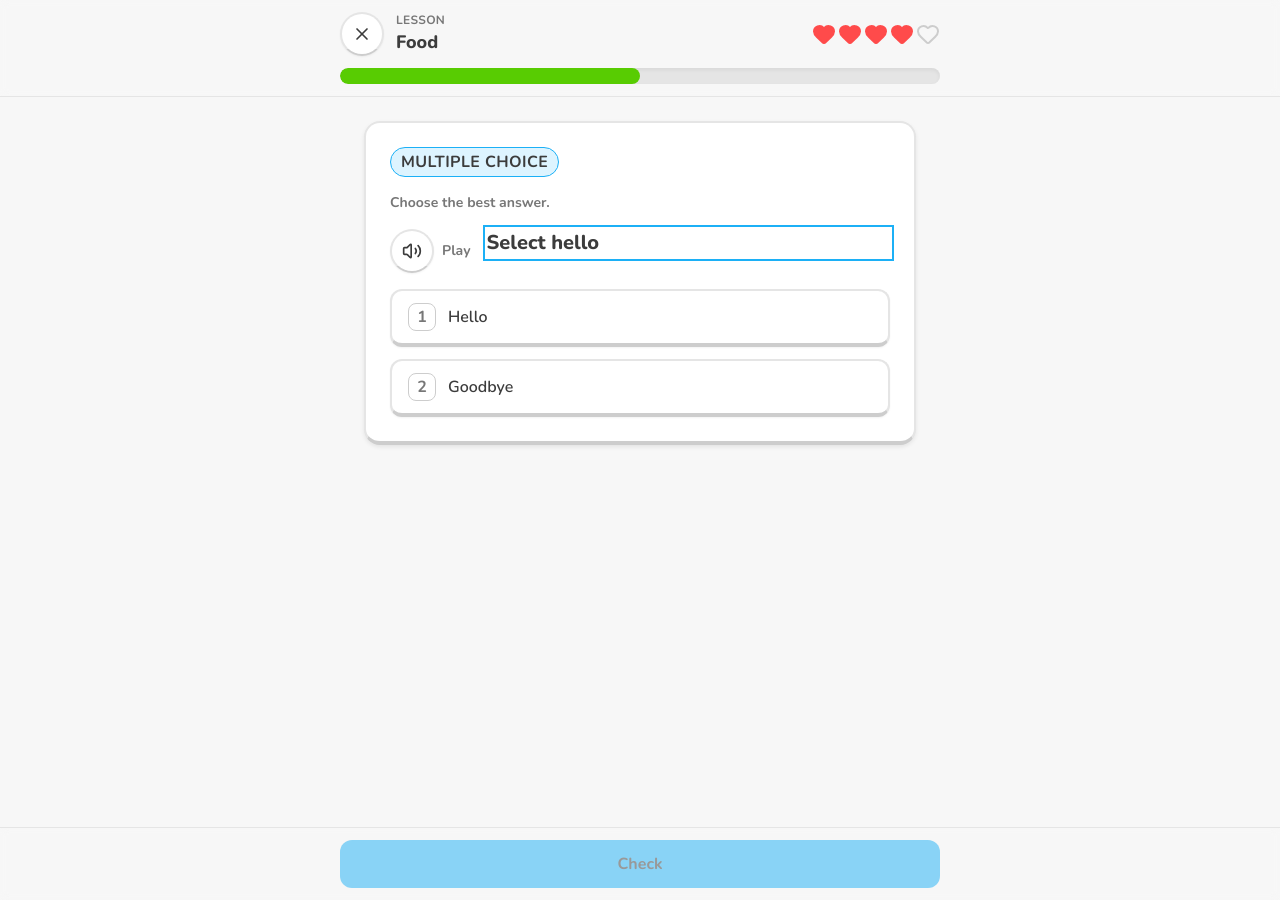
Test: LessonPlayer shell › opens exit confirmation and keeps lesson active when cancelled
Step 1. Click the button named "Exit Food lesson" → (362, 34), box x1=340 y1=12 x2=384 y2=56
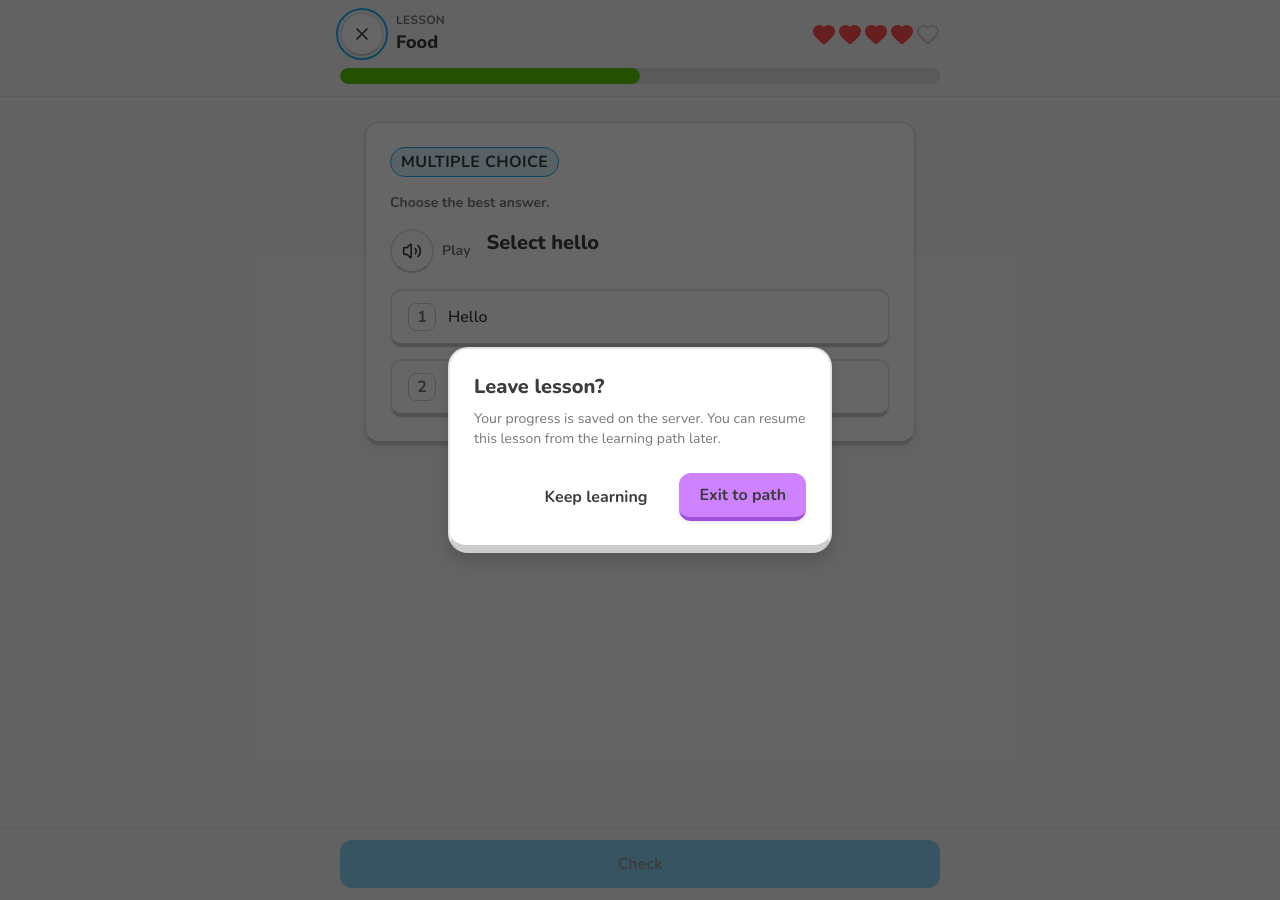
expect the dialog is shown: met, box x1=448 y1=347 x2=832 y2=553
Step 2. Click the button "Keep learning" → (596, 497), box x1=525 y1=473 x2=668 y2=521
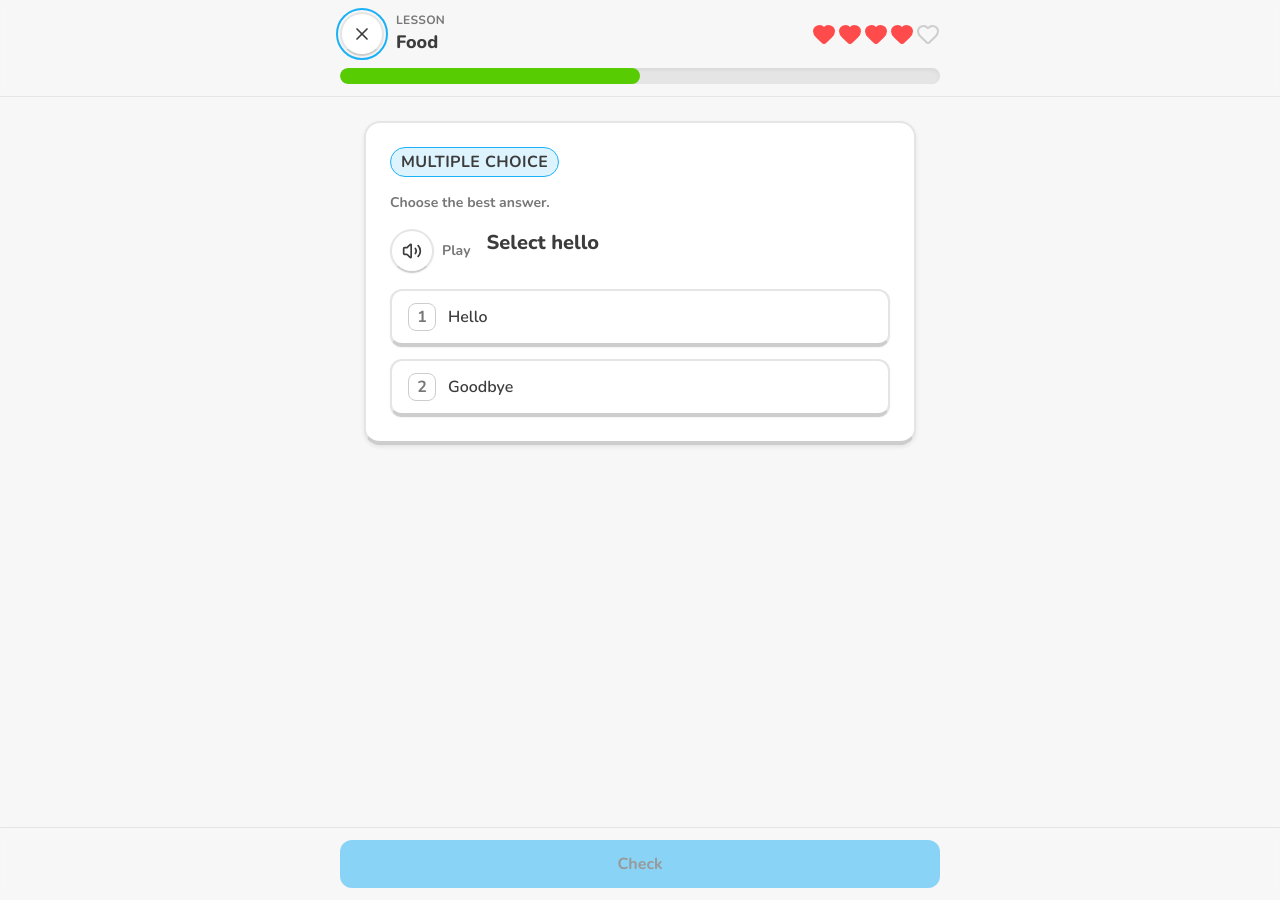
expect the dialog is gone: met
